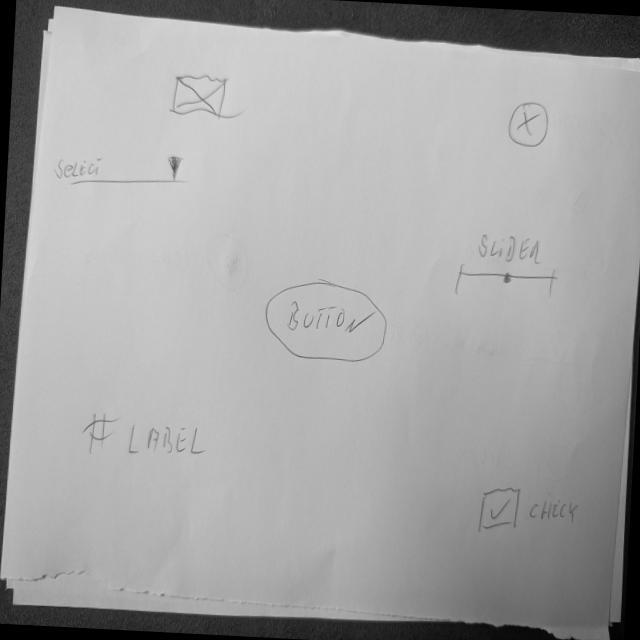button: (261, 278, 392, 370)
checkbox: (479, 484, 585, 542)
image: (171, 73, 230, 122), (505, 100, 554, 153)
label: (80, 409, 214, 462)
select: (68, 147, 194, 195)
slider: (454, 262, 561, 303)
